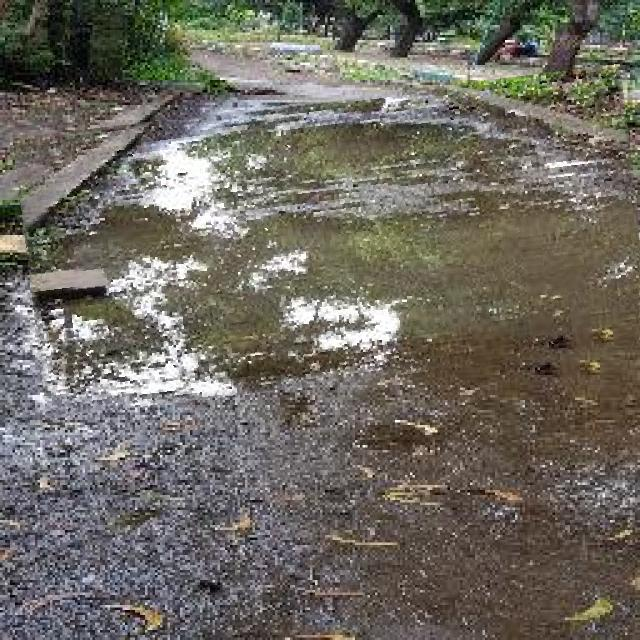puddle: (21, 83, 640, 401)
